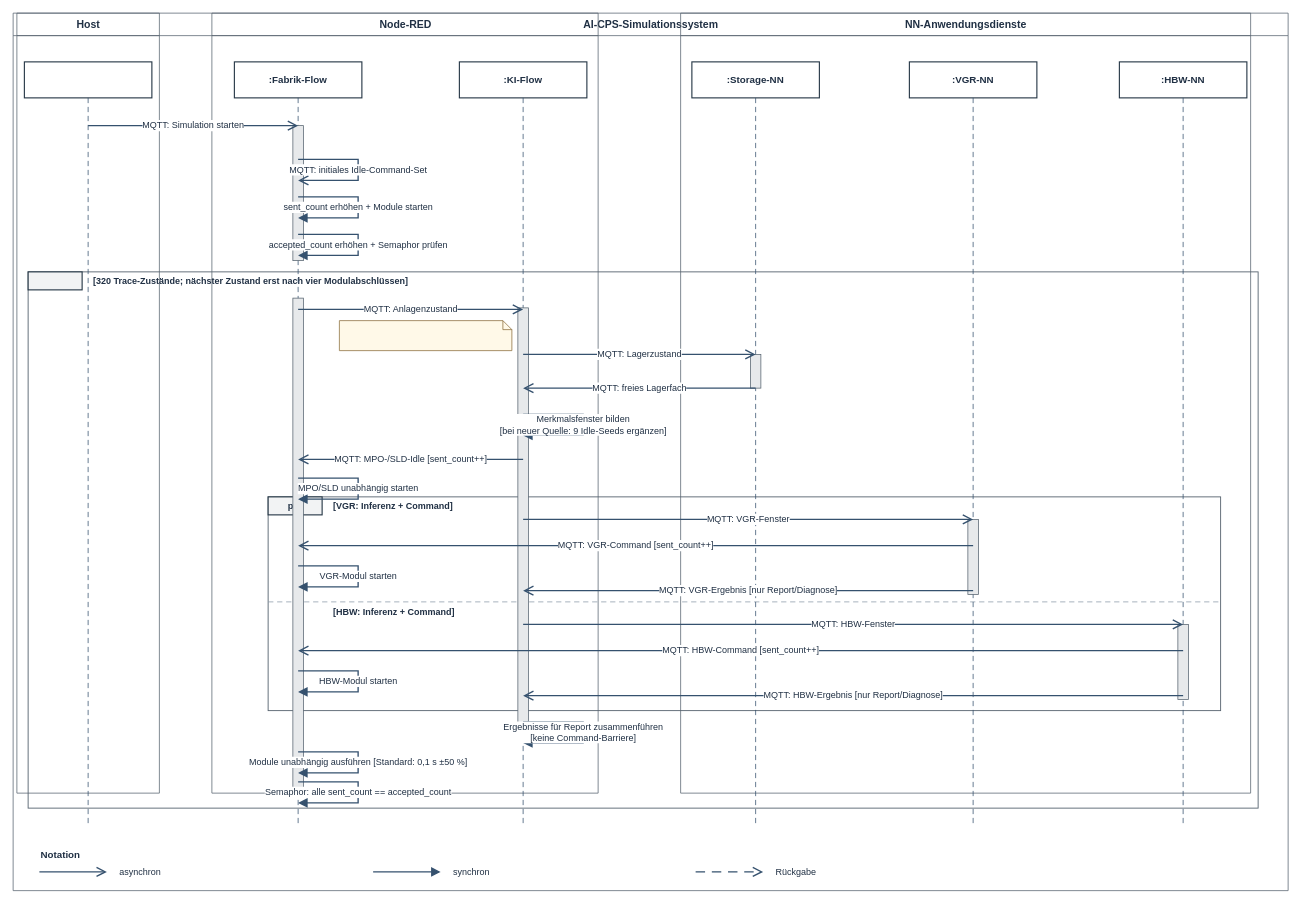
This 1301x904 diagram has some shape labels left out. The centre of each missing label's shape, as x and y in pixels:
:Startskript: (x=87, y=79)
Erste Trace-Zustandsmeldung: Idle: (x=425, y=335)
loop: (x=54, y=280)
